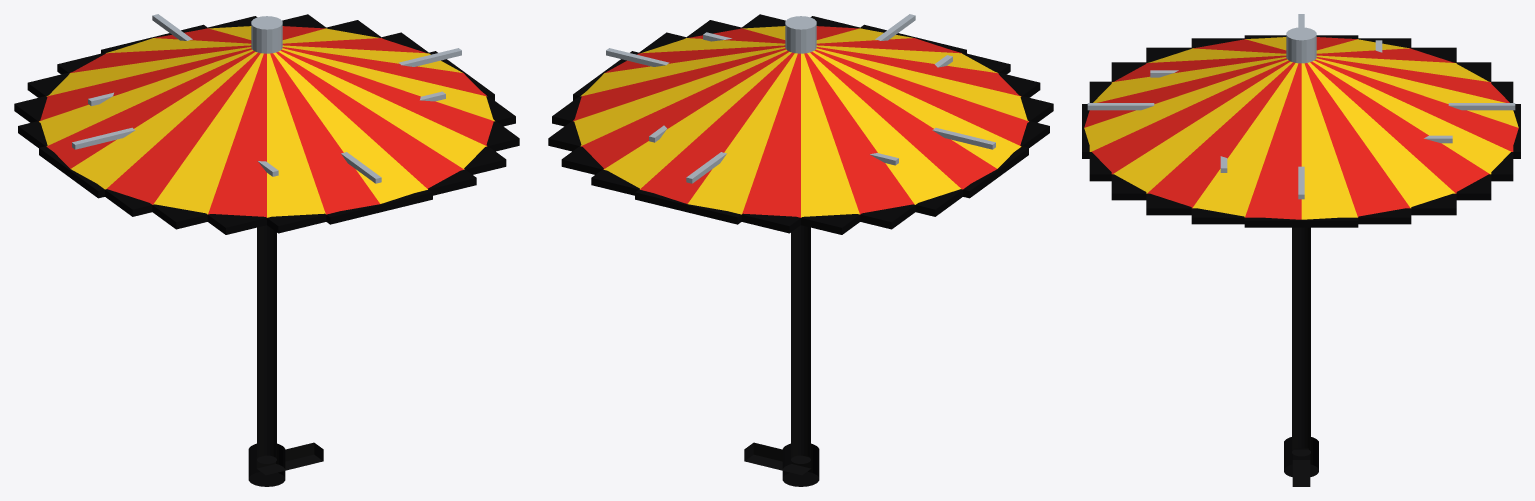
Rendered from Piper_Umbrella.obj.
3 views of the same model, side by side, from view 1: azimuth 30°, elevation 25°; view 2: azimuth 150°, elevation 25°; view 3: azimuth 270°, elevation 25° (orthographic). The views are drawn at different scales.
Parts seen in each view (by area): view 1: CanopyTop_08, CanopyTop_07, CanopyTop_09, CanopyTop_06, StraightHandle, CanopyTop_10, CanopyTop_05, CanopyTop_04, CanopyTop_11, CanopyTop_03, CanopyTop_12, CanopyTop_02 (+41 smaller); view 2: CanopyTop_15, CanopyTop_16, CanopyTop_17, CanopyTop_14, StraightHandle, CanopyTop_13, CanopyTop_18, CanopyTop_12, CanopyTop_19, CanopyTop_20, CanopyTop_11, CanopyTop_10 (+41 smaller); view 3: CanopyTop_00, CanopyTop_23, CanopyTop_22, CanopyTop_01, StraightHandle, CanopyTop_21, CanopyTop_02, CanopyTop_03, CanopyTop_20, CanopyTop_04, CanopyTop_19, CanopyTop_05 (+43 smaller).
Part boxes in pixels (box(x1,y1,x2,y2)): CanopyTop_08: box(208, 53, 266, 217); CanopyTop_07: box(267, 53, 325, 217); CanopyTop_09: box(153, 53, 263, 214); CanopyTop_06: box(270, 53, 379, 214); StraightHandle: box(257, 225, 276, 463); CanopyTop_10: box(107, 52, 260, 204); CanopyTop_05: box(273, 52, 427, 203); CanopyTop_04: box(276, 52, 463, 188); CanopyTop_11: box(71, 52, 257, 189); CanopyTop_03: box(278, 50, 486, 169); CanopyTop_12: box(47, 50, 255, 168); CanopyTop_02: box(280, 49, 493, 146); CanopyTop_15: box(801, 53, 859, 217); CanopyTop_16: box(742, 53, 800, 217); CanopyTop_17: box(688, 53, 797, 214); CanopyTop_14: box(804, 53, 914, 214); StraightHandle: box(791, 225, 810, 463); CanopyTop_13: box(807, 52, 960, 204); CanopyTop_18: box(640, 52, 794, 203); CanopyTop_12: box(810, 52, 996, 189); CanopyTop_19: box(604, 52, 791, 188); CanopyTop_20: box(581, 50, 789, 169); CanopyTop_11: box(812, 50, 1021, 168); CanopyTop_10: box(814, 49, 1028, 145); CanopyTop_00: box(1245, 63, 1301, 219); CanopyTop_23: box(1301, 63, 1357, 219); CanopyTop_22: box(1304, 63, 1410, 217); CanopyTop_01: box(1192, 63, 1298, 217); StraightHandle: box(1292, 227, 1310, 456); CanopyTop_21: box(1307, 62, 1455, 207); CanopyTop_02: box(1147, 62, 1295, 207); CanopyTop_03: box(1113, 61, 1292, 193); CanopyTop_20: box(1310, 61, 1489, 193); CanopyTop_04: box(1091, 60, 1290, 174); CanopyTop_19: box(1312, 60, 1510, 174); CanopyTop_05: box(1084, 59, 1288, 151).
Bounding box in the file's own units: 1.72 × 1.89 × 1.72.
